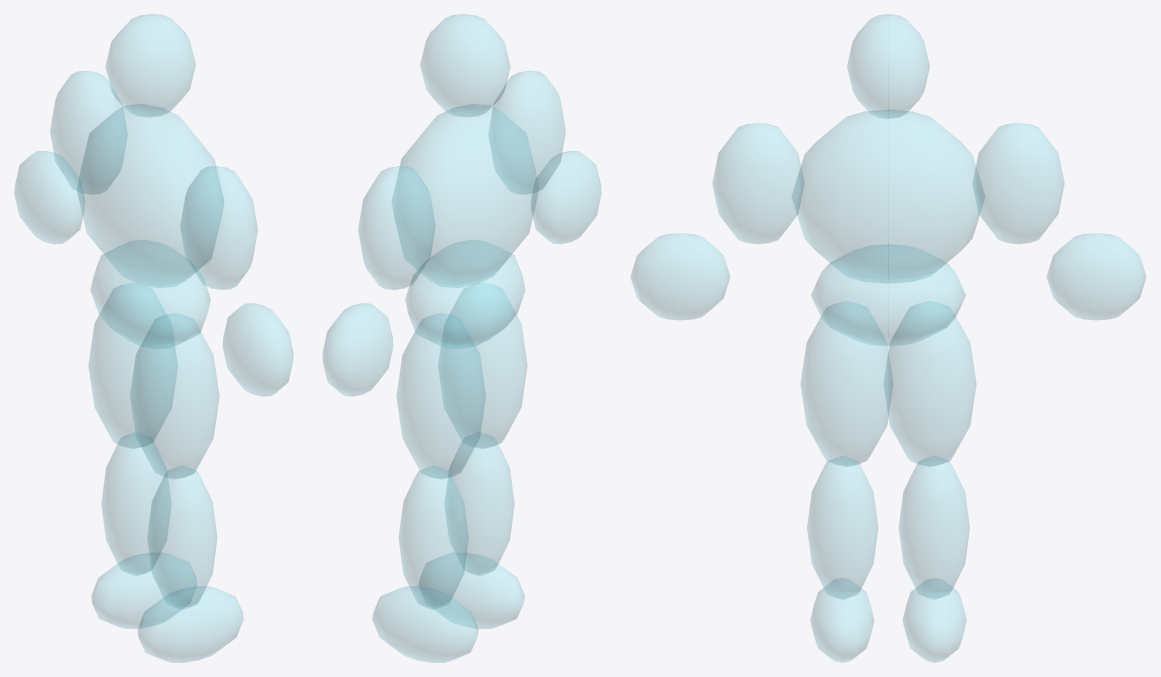
Rendered from ProjectZ_SURV26_FemaleSurvivor_Collision.glb.
3 renders of one model, left to right at view 1: azimuth 30°, elevation 25°; view 2: azimuth 150°, elevation 25°; view 3: azimuth 270°, elevation 25°, orthographic.
Visible parts, largest first — view 1: UCX_SURV26_Torso, UCX_SURV26_Thigh_L, UCX_SURV26_Thigh_R, UCX_SURV26_Pelvis, UCX_SURV26_Calf_L, UCX_SURV26_Calf_R, UCX_SURV26_UpperArm_L, UCX_SURV26_UpperArm_R, UCX_SURV26_Head, UCX_SURV26_Boot_L, UCX_SURV26_Boot_R, UCX_SURV26_Forearm_L (+1 smaller); view 2: UCX_SURV26_Torso, UCX_SURV26_Thigh_R, UCX_SURV26_Thigh_L, UCX_SURV26_Pelvis, UCX_SURV26_Calf_R, UCX_SURV26_Calf_L, UCX_SURV26_UpperArm_R, UCX_SURV26_UpperArm_L, UCX_SURV26_Head, UCX_SURV26_Boot_R, UCX_SURV26_Boot_L, UCX_SURV26_Forearm_R (+1 smaller); view 3: UCX_SURV26_Torso, UCX_SURV26_Pelvis, UCX_SURV26_Thigh_L, UCX_SURV26_Thigh_R, UCX_SURV26_UpperArm_L, UCX_SURV26_UpperArm_R, UCX_SURV26_Calf_L, UCX_SURV26_Calf_R, UCX_SURV26_Forearm_L, UCX_SURV26_Forearm_R, UCX_SURV26_Head, UCX_SURV26_Boot_L (+1 smaller).
Boxes of the visible parts, bbox=[...] form: UCX_SURV26_Torso: bbox=[77, 104, 223, 287]; UCX_SURV26_Thigh_L: bbox=[130, 313, 219, 478]; UCX_SURV26_Thigh_R: bbox=[88, 283, 177, 448]; UCX_SURV26_Pelvis: bbox=[90, 240, 210, 348]; UCX_SURV26_Calf_L: bbox=[147, 466, 216, 609]; UCX_SURV26_Calf_R: bbox=[101, 432, 170, 575]; UCX_SURV26_UpperArm_L: bbox=[180, 166, 257, 289]; UCX_SURV26_UpperArm_R: bbox=[50, 71, 127, 193]; UCX_SURV26_Head: bbox=[105, 14, 195, 116]; UCX_SURV26_Boot_L: bbox=[137, 586, 243, 662]; UCX_SURV26_Boot_R: bbox=[91, 553, 196, 628]; UCX_SURV26_Forearm_L: bbox=[223, 303, 293, 396]; UCX_SURV26_Torso: bbox=[392, 104, 538, 287]; UCX_SURV26_Thigh_R: bbox=[396, 313, 485, 478]; UCX_SURV26_Thigh_L: bbox=[438, 283, 527, 448]; UCX_SURV26_Pelvis: bbox=[405, 240, 525, 348]; UCX_SURV26_Calf_R: bbox=[399, 466, 468, 609]; UCX_SURV26_Calf_L: bbox=[445, 432, 514, 575]; UCX_SURV26_UpperArm_R: bbox=[358, 166, 435, 289]; UCX_SURV26_UpperArm_L: bbox=[488, 71, 565, 193]; UCX_SURV26_Head: bbox=[420, 14, 510, 116]; UCX_SURV26_Boot_R: bbox=[372, 586, 478, 662]; UCX_SURV26_Boot_L: bbox=[419, 553, 524, 628]; UCX_SURV26_Forearm_R: bbox=[322, 303, 392, 396]; UCX_SURV26_Torso: bbox=[792, 110, 984, 282]; UCX_SURV26_Pelvis: bbox=[811, 244, 965, 345]; UCX_SURV26_Thigh_L: bbox=[800, 301, 892, 466]; UCX_SURV26_Thigh_R: bbox=[884, 301, 976, 466]; UCX_SURV26_UpperArm_L: bbox=[712, 123, 803, 243]; UCX_SURV26_UpperArm_R: bbox=[973, 123, 1064, 243]; UCX_SURV26_Calf_L: bbox=[807, 456, 877, 599]; UCX_SURV26_Calf_R: bbox=[899, 456, 969, 599]; UCX_SURV26_Forearm_L: bbox=[630, 233, 729, 319]; UCX_SURV26_Forearm_R: bbox=[1047, 233, 1146, 319]; UCX_SURV26_Head: bbox=[847, 14, 929, 118]; UCX_SURV26_Boot_L: bbox=[810, 578, 873, 662].
Size of the model in its own units: 0.375 by 1.79 by 1.33.
